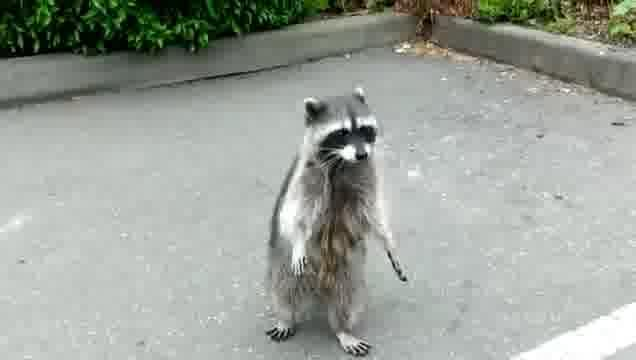raccoon: (266, 87, 407, 359)
